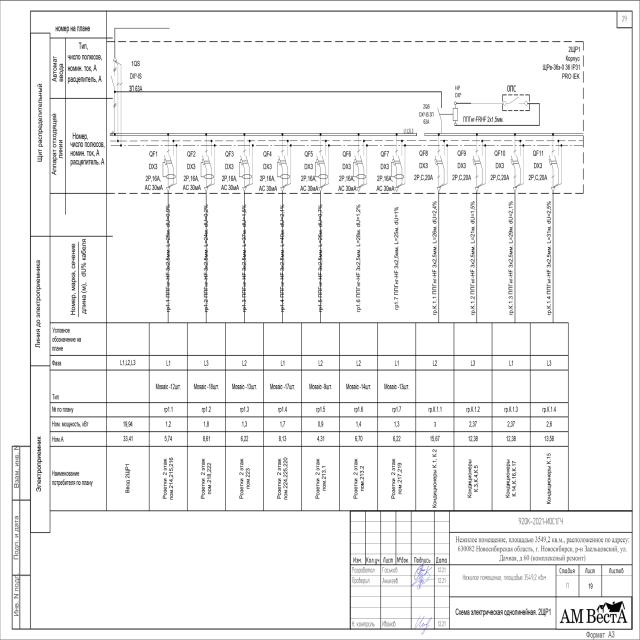-: (542, 44, 581, 82), (256, 162, 278, 193), (375, 162, 396, 192), (181, 162, 202, 192), (143, 162, 164, 192), (337, 162, 358, 192), (220, 162, 240, 192), (298, 164, 319, 192), (527, 162, 548, 181), (451, 162, 473, 180), (413, 162, 434, 180), (489, 162, 510, 180), (128, 72, 144, 92), (418, 110, 434, 126)
QF: (548, 153, 560, 170), (510, 154, 522, 170), (472, 153, 483, 169), (434, 154, 445, 170)
QFD: (200, 153, 215, 180), (353, 153, 368, 180), (162, 154, 177, 180), (390, 154, 405, 180), (277, 153, 291, 180), (314, 153, 328, 180), (239, 154, 253, 180)
QS: (437, 106, 443, 122), (111, 74, 116, 88)
